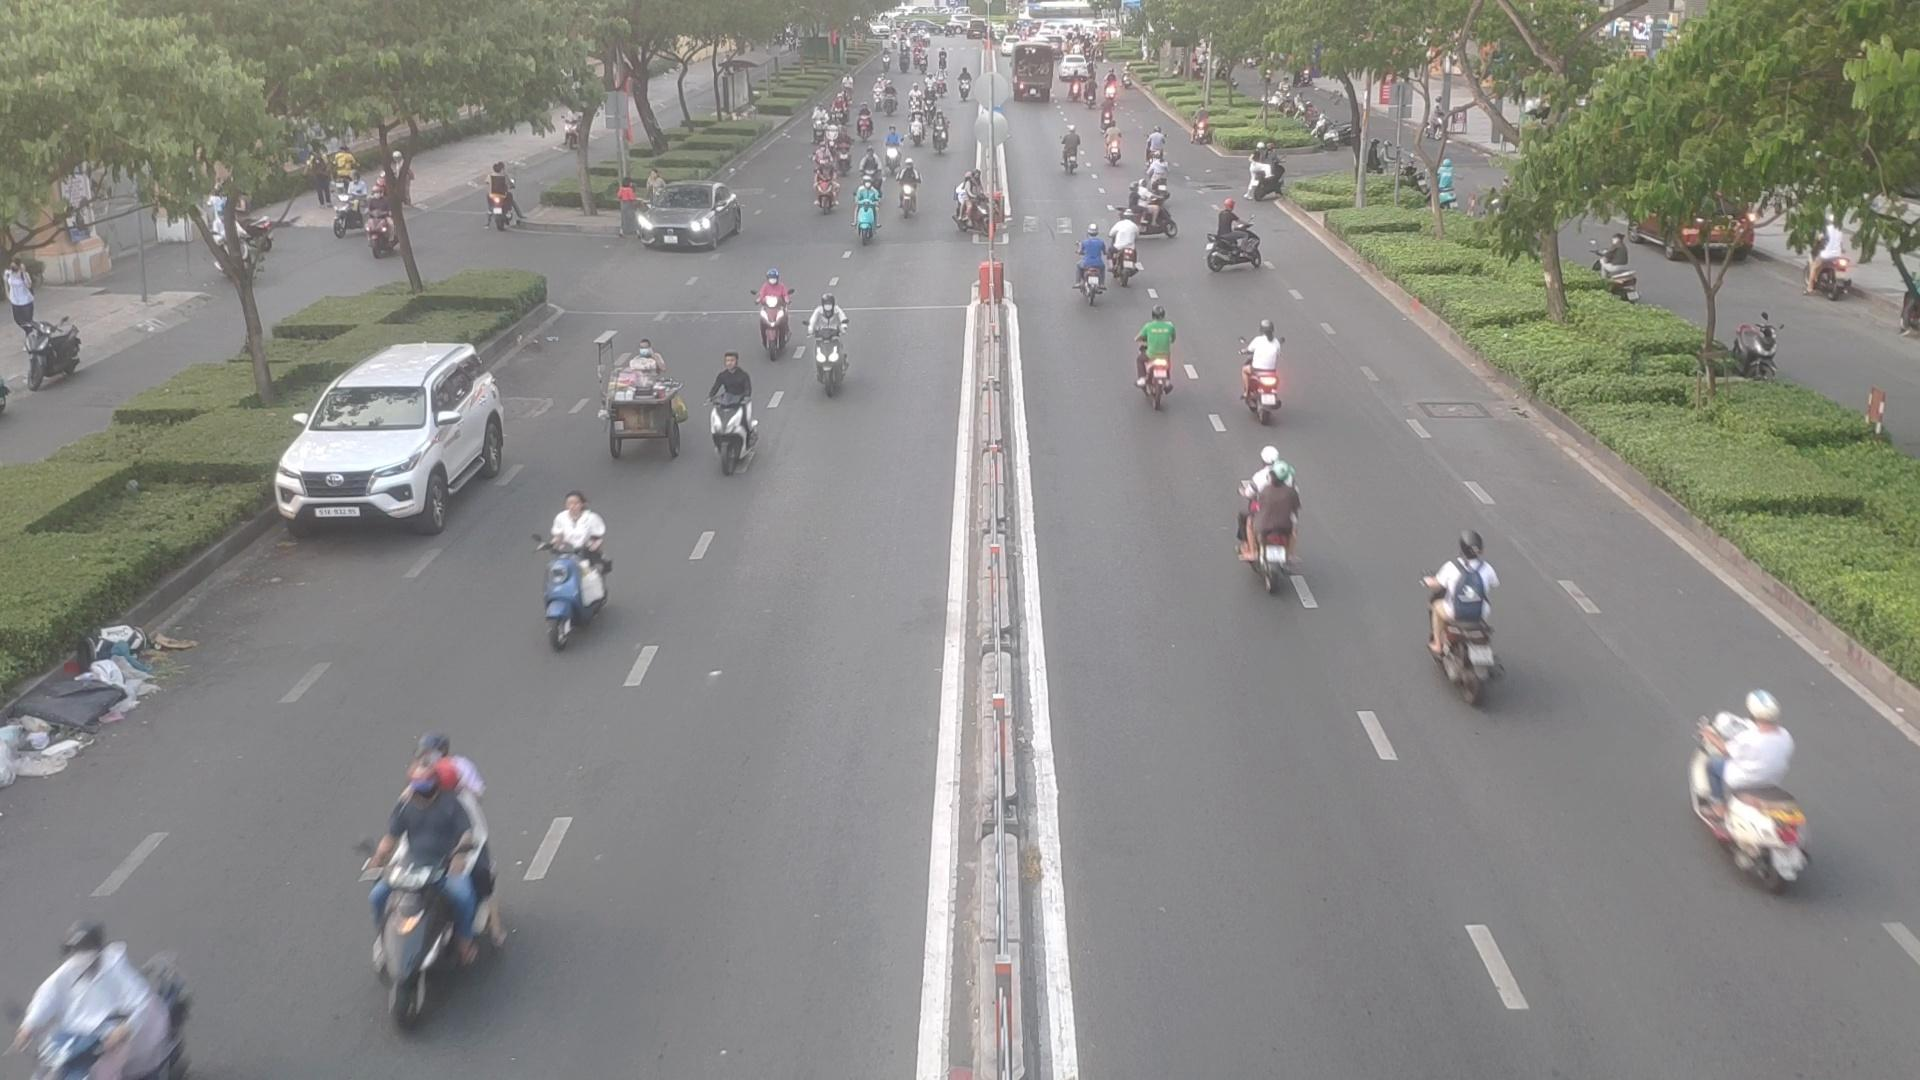car: (280, 339, 520, 527), (617, 189, 752, 255)
motorbike: (361, 749, 517, 1014), (1683, 688, 1815, 889), (13, 928, 179, 1080), (1422, 541, 1513, 694), (526, 498, 615, 636), (1230, 450, 1311, 585), (694, 355, 764, 475), (802, 290, 865, 400), (1131, 309, 1191, 405), (1238, 324, 1288, 415), (960, 173, 1021, 245), (742, 270, 796, 344), (1207, 215, 1270, 273), (1127, 175, 1176, 239)
